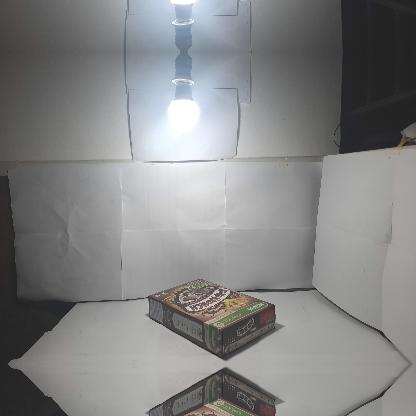Koko-Krunch: (148, 278, 276, 356), (148, 372, 277, 415)
